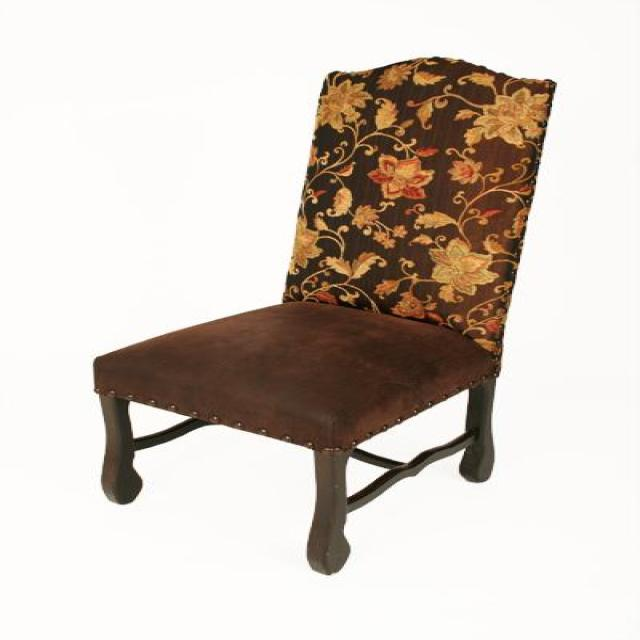chair: (91, 55, 557, 575)
